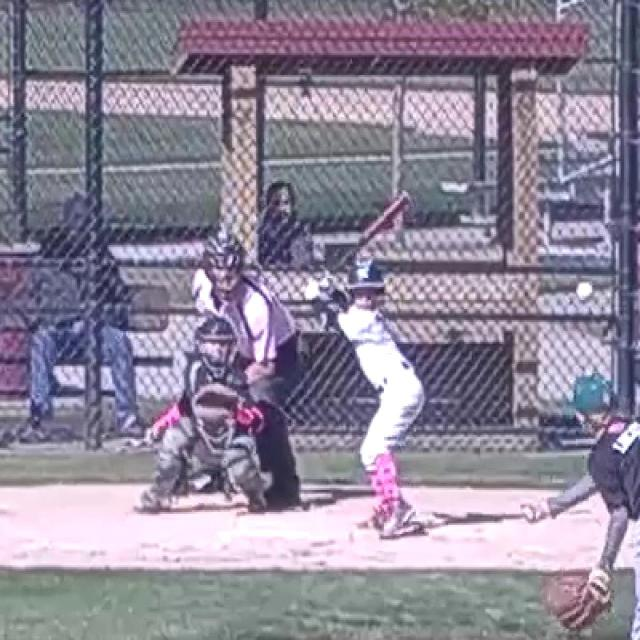baseball: (577, 284, 591, 300)
